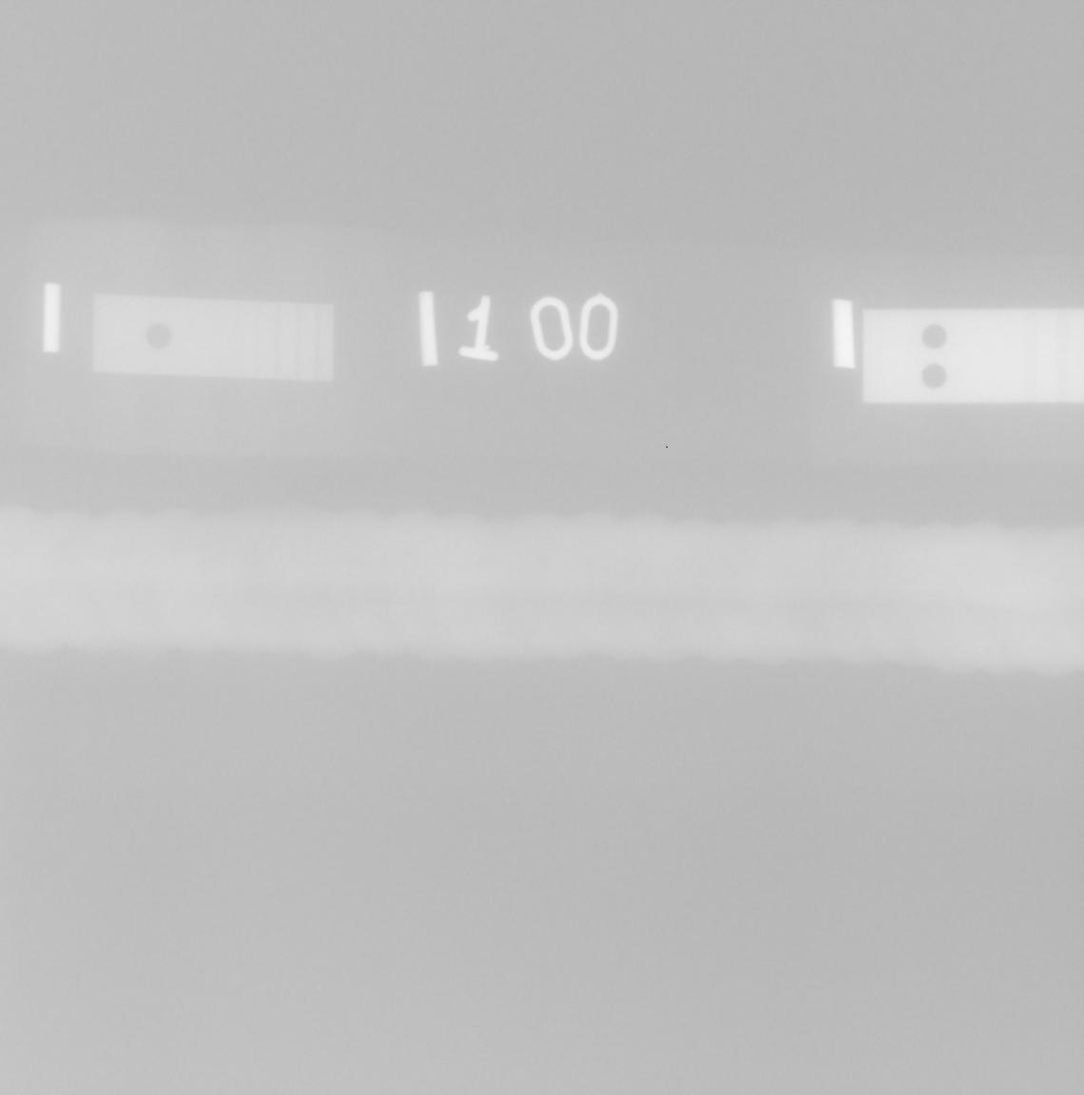Reference Standard 1: (93, 293, 333, 382)
